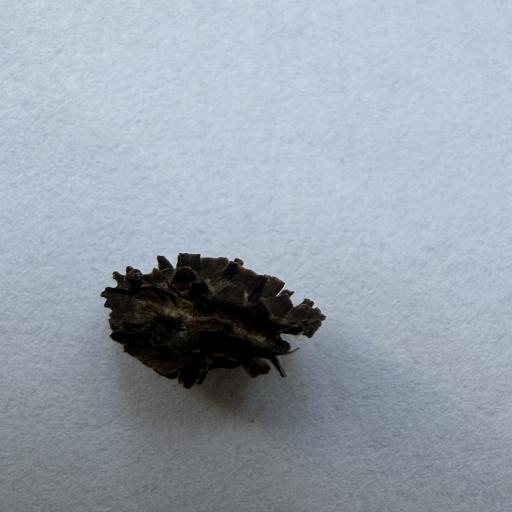papaya_seed: (89, 238, 359, 405)
